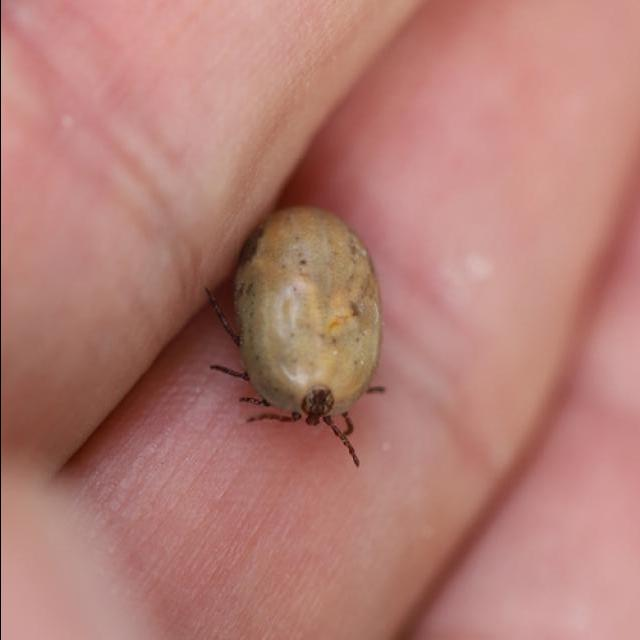Dermacentor Reticulatus-F-Fed: (204, 206, 385, 468)
